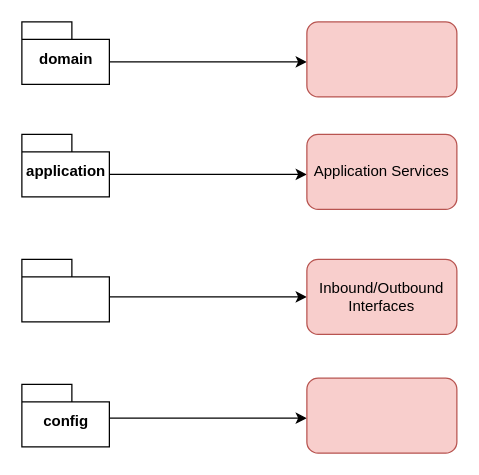
Some shapes in this 479 by 475 pixel diagram are drawn without their labels. The shapes that lost their labels are listed below. From the top down, each one's box as (x1, y1, x2, y2) in pixels, then its label:
(306, 21, 457, 97): Domain Model
(21, 258, 109, 322): interfaces
(306, 377, 457, 453): Application Config
